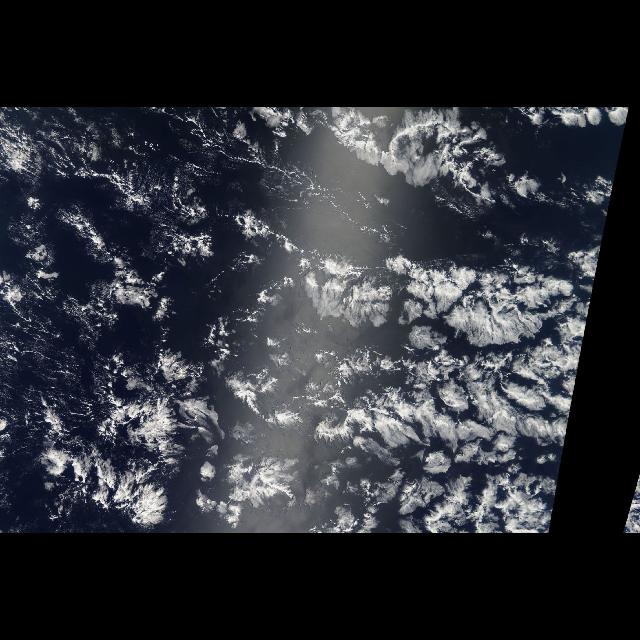Flower: (132, 220, 556, 528)
